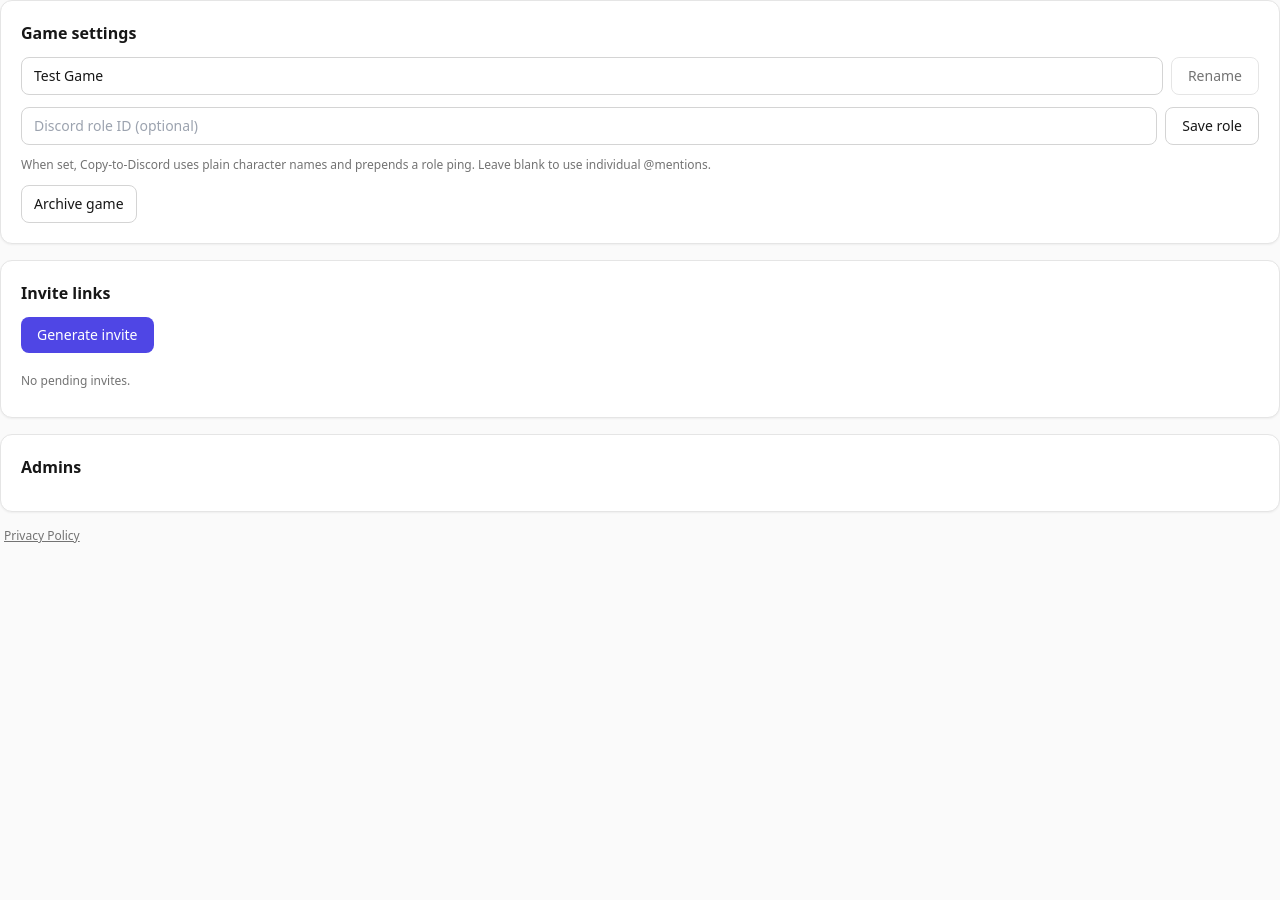
Test: AdminTab › can generate invite link
The width and height of the screenshot is (1280, 900).
expect the text "Invite links" is shown: met, box x1=21 y1=282 x2=110 y2=304
Click the button "Generate invite" at (87, 335), box x1=21 y1=317 x2=154 y2=353
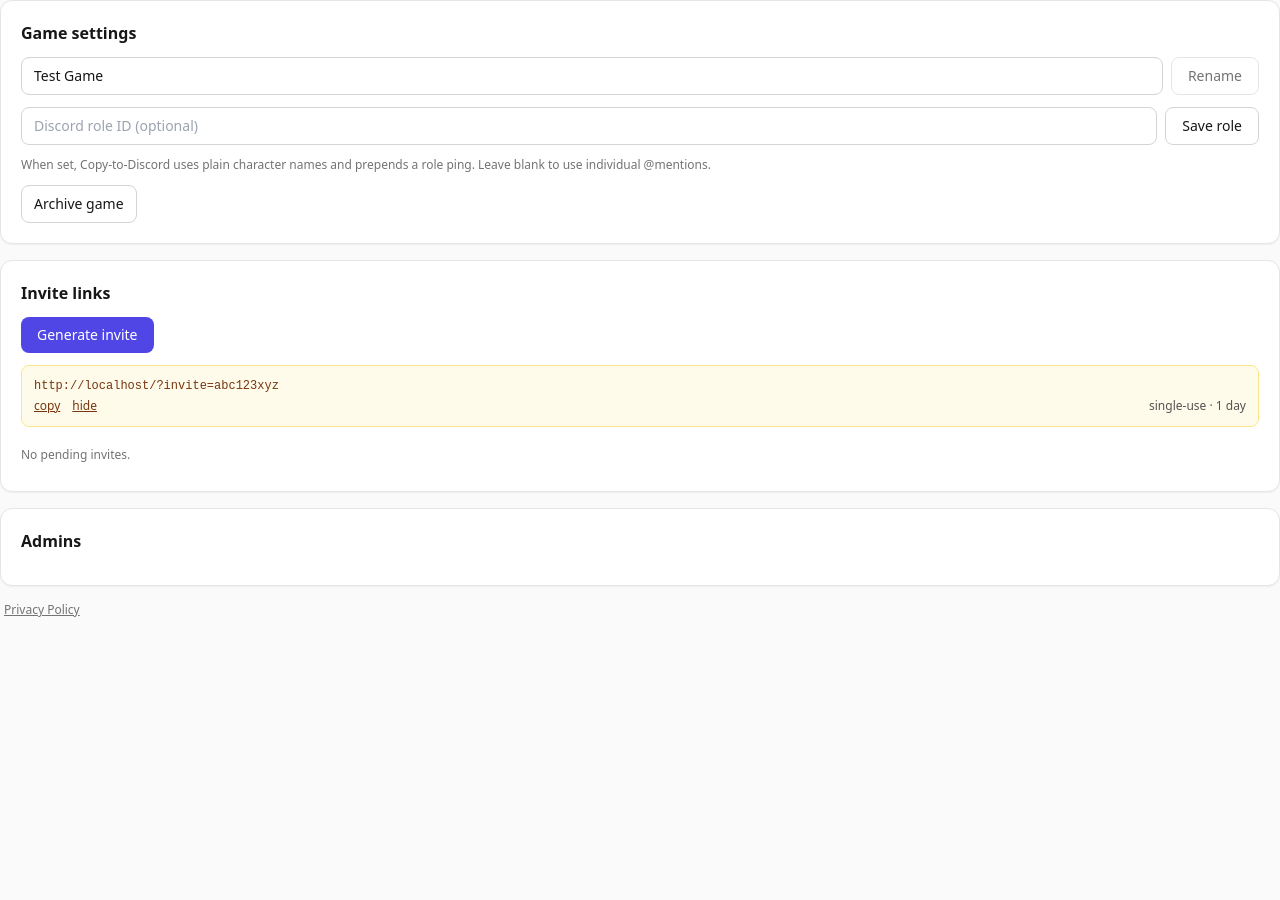
expect the text "http://localhost/?invite=abc123xyz" is shown: met, box x1=34 y1=379 x2=279 y2=393
